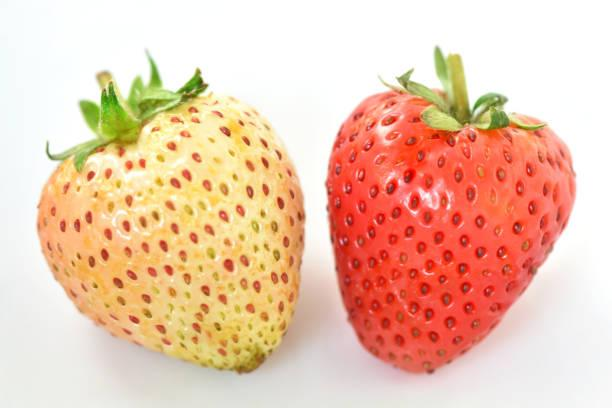straw-ripe: (327, 86, 577, 375)
straw-unripe: (38, 94, 305, 370)
